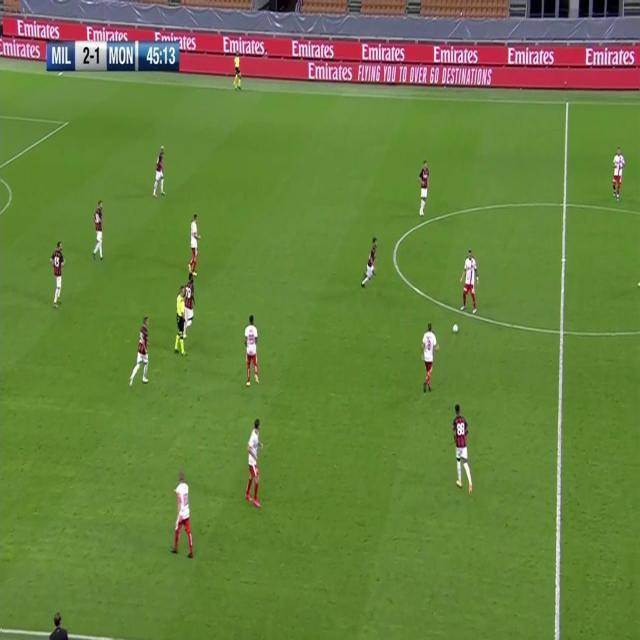ball: (452, 321, 459, 335)
player: (452, 402, 476, 498), (171, 470, 195, 558), (243, 416, 265, 512), (128, 317, 152, 388), (458, 246, 479, 316), (243, 313, 261, 388), (421, 321, 438, 394), (50, 240, 65, 308), (173, 284, 187, 356), (359, 235, 378, 288), (610, 145, 626, 202), (90, 199, 104, 263), (187, 211, 201, 270), (416, 158, 430, 216), (152, 143, 166, 200), (185, 273, 195, 333), (232, 54, 243, 92)
